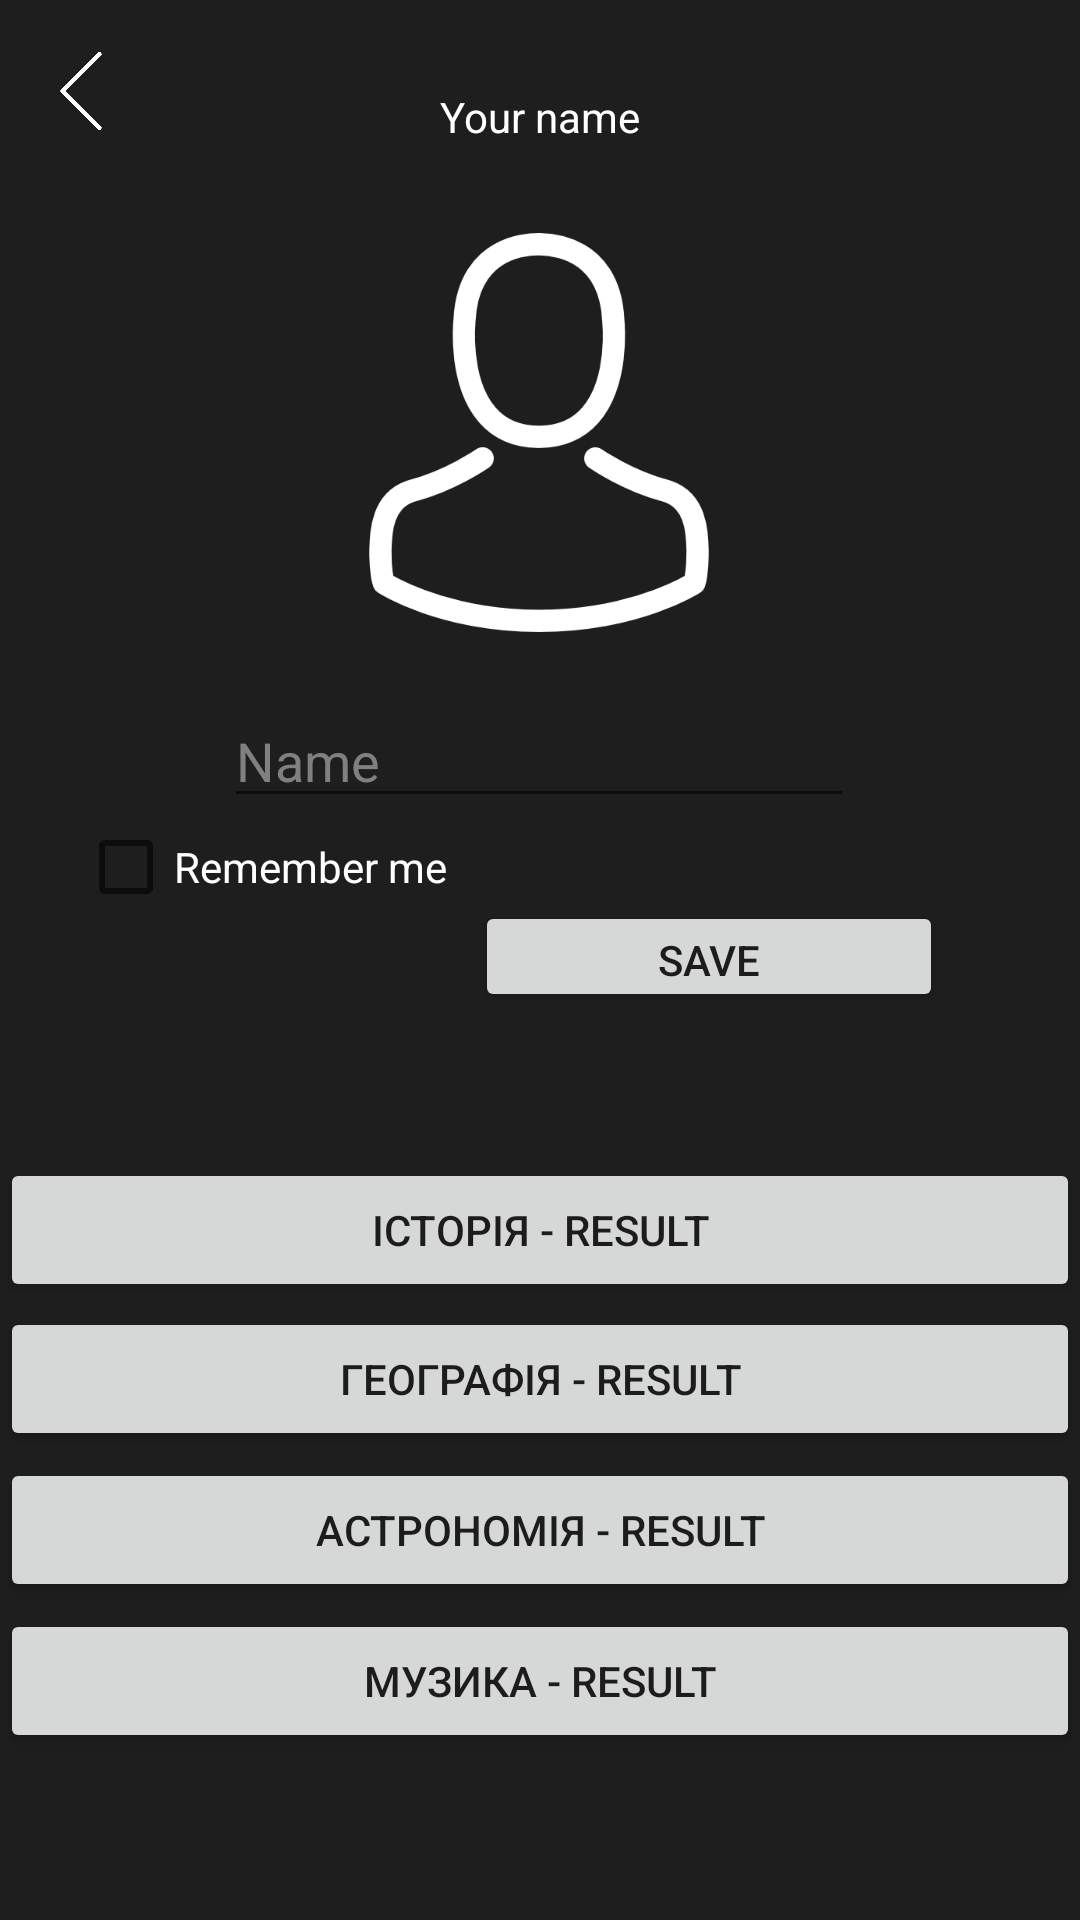

Icons on this 1080px x 1920px Android screen, each with the point to tap as (x=x, y=y):
back: (x=81, y=91)
